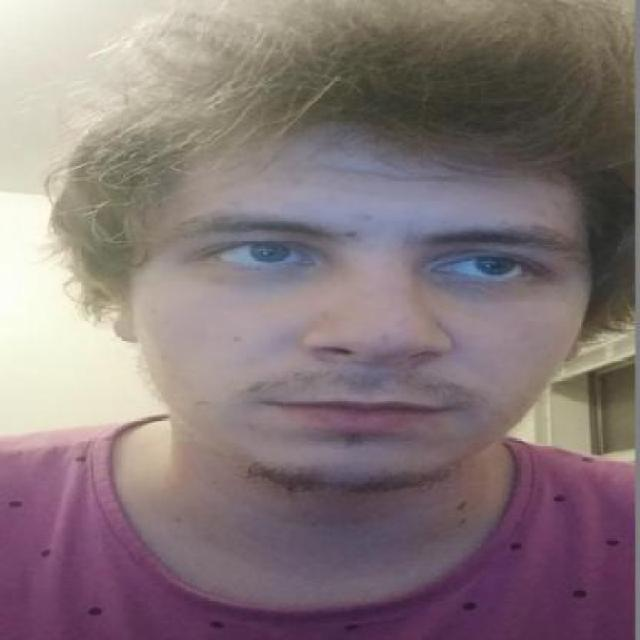awake: (433, 251, 544, 286), (202, 240, 313, 268)
